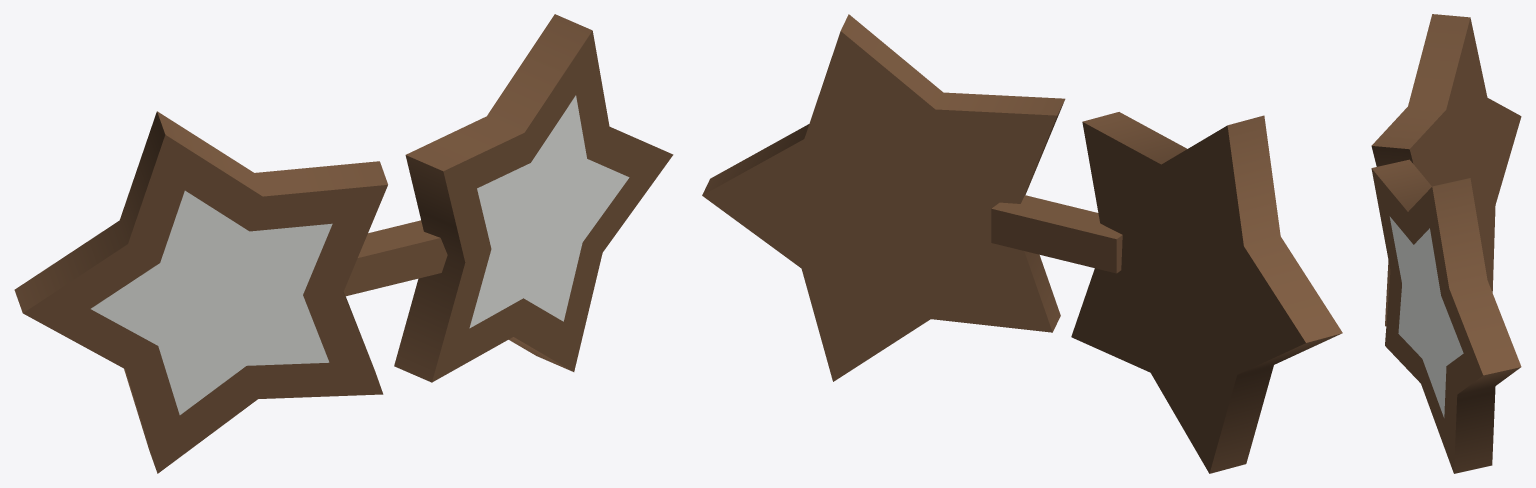
File: M_ACC_Glasses_B.FBX
3 views of the same model, side by side, from view 1: azimuth 30°, elevation 25°; view 2: azimuth 150°, elevation 25°; view 3: azimuth 270°, elevation 25° (orthographic). The views are drawn at different scales.
Visible parts, largest first — view 1: M_ACC_Glasses_B; view 2: M_ACC_Glasses_B; view 3: M_ACC_Glasses_B.
Part boxes in pixels (x1,y1,x2,y2): M_ACC_Glasses_B: (14, 14, 673, 473); M_ACC_Glasses_B: (702, 14, 1342, 473); M_ACC_Glasses_B: (1371, 14, 1521, 473).
Bounding box in the file's own units: 56.66 × 29.4 × 13.69.
